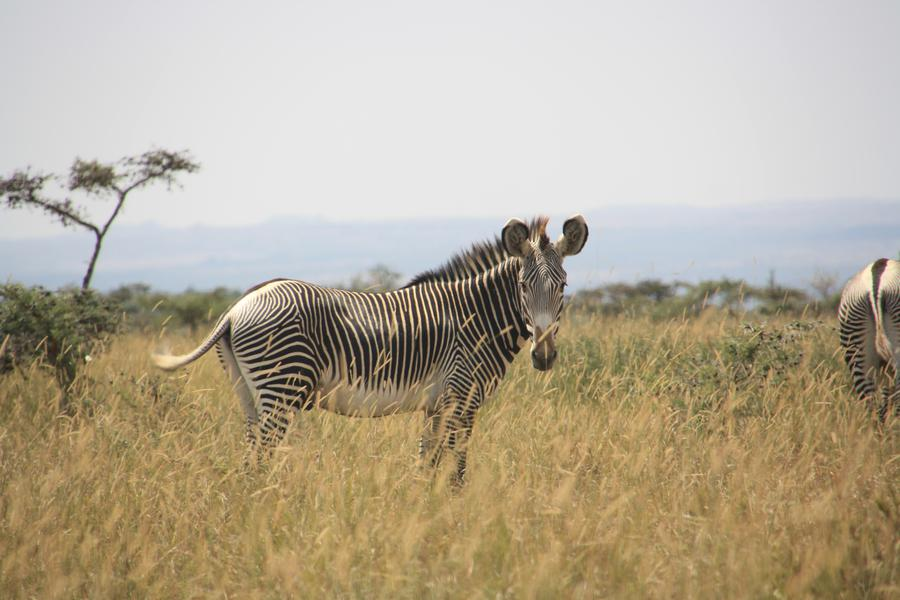zebra_grevys: (222, 270, 491, 400)
